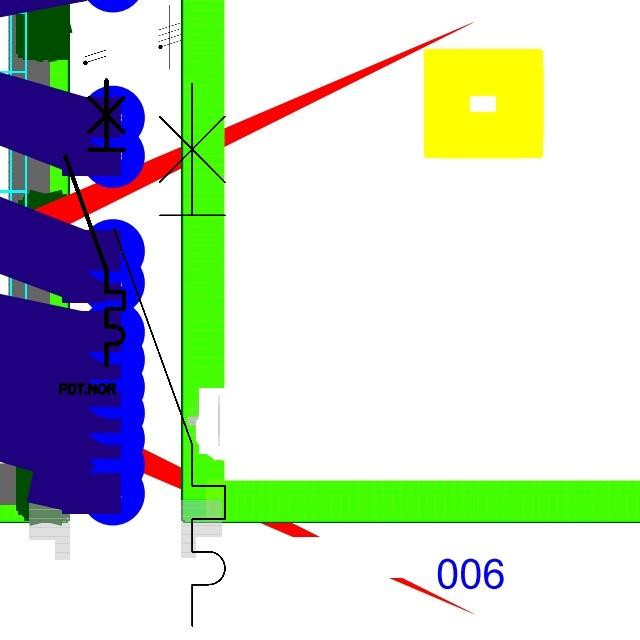interruptor_termomagnetico: (100, 69, 239, 639), (58, 72, 131, 372)
